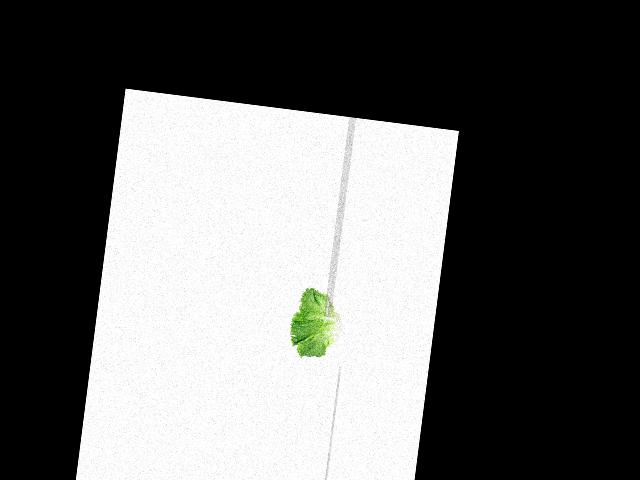lettuce: (287, 288, 346, 361)
